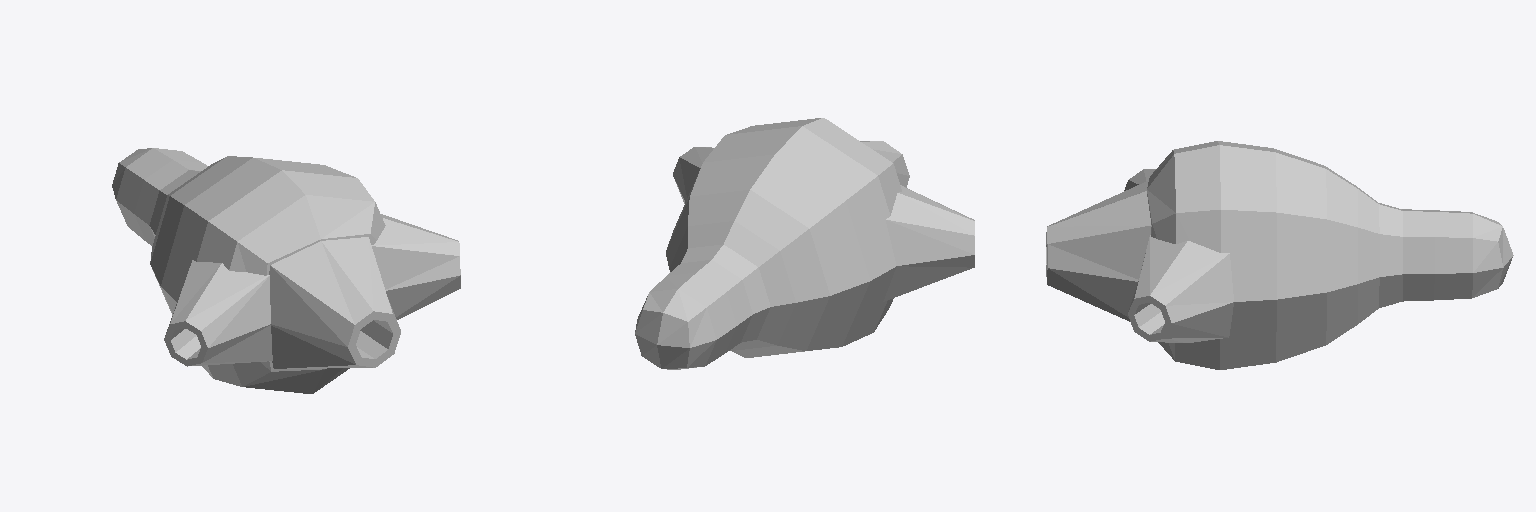
Rendered from striderheart.obj.
The picture shows the model from 3 angles: view 1: azimuth 30°, elevation 25°; view 2: azimuth 150°, elevation 25°; view 3: azimuth 270°, elevation 25°; orthographic projection.
Parts seen in each view (by area): view 1: striderheart; view 2: striderheart; view 3: striderheart.
Part boxes in pixels (bbox=[...]): striderheart: bbox=[112, 148, 460, 393]; striderheart: bbox=[635, 118, 974, 369]; striderheart: bbox=[1046, 141, 1513, 369].
Size of the model in its own units: 0.775 by 0.5393 by 1.05.